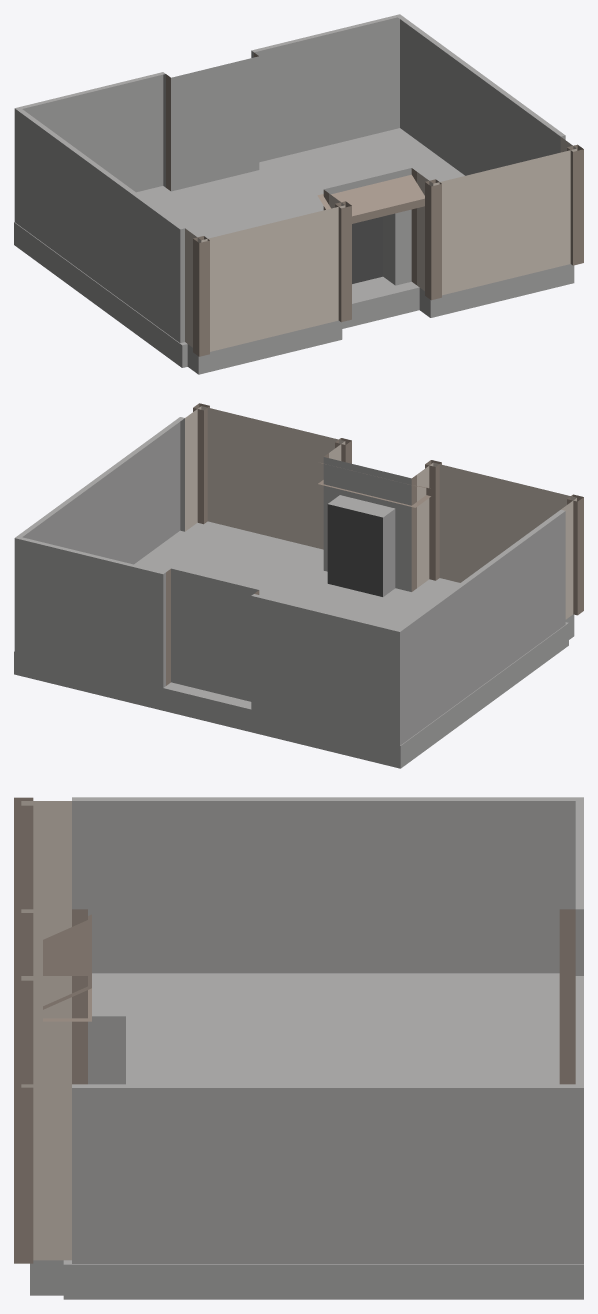
Rendered from building1_ground.fbx.
The picture shows the model from 3 angles, top to bottom: view 1: azimuth 30°, elevation 25°; view 2: azimuth 150°, elevation 25°; view 3: azimuth 270°, elevation 25°; orthographic projection. The views are drawn at different scales.
Visible parts, largest first — view 1: building1_ground; view 2: building1_ground; view 3: building1_ground.
Part boxes in pixels (<box>): building1_ground: <box>14,14,583,374</box>; building1_ground: <box>14,403,583,768</box>; building1_ground: <box>14,797,583,1299</box>.
Bounding box in the file's own units: 889 × 300 × 734.
